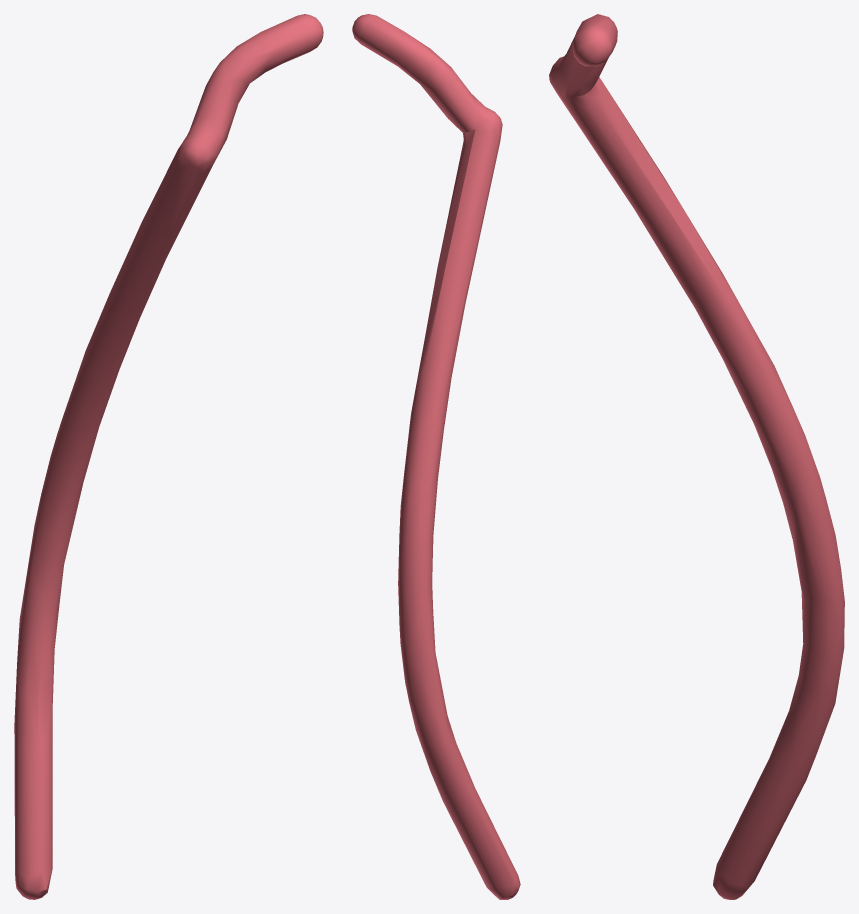
The model's file is fma22920_fj2290.glb.
The picture shows the model from 3 angles, left to right: view 1: azimuth 30°, elevation 25°; view 2: azimuth 150°, elevation 25°; view 3: azimuth 270°, elevation 25°; orthographic projection. The views are drawn at different scales.
Parts seen in each view (by area): view 1: FMA22920_FJ2290; view 2: FMA22920_FJ2290; view 3: FMA22920_FJ2290.
Part boxes in pixels (<box>): FMA22920_FJ2290: <box>14,14,323,899</box>; FMA22920_FJ2290: <box>352,14,520,899</box>; FMA22920_FJ2290: <box>549,14,844,899</box>.
Size of the model in its own units: 0.0108 by 0.0372 by 0.0101.
